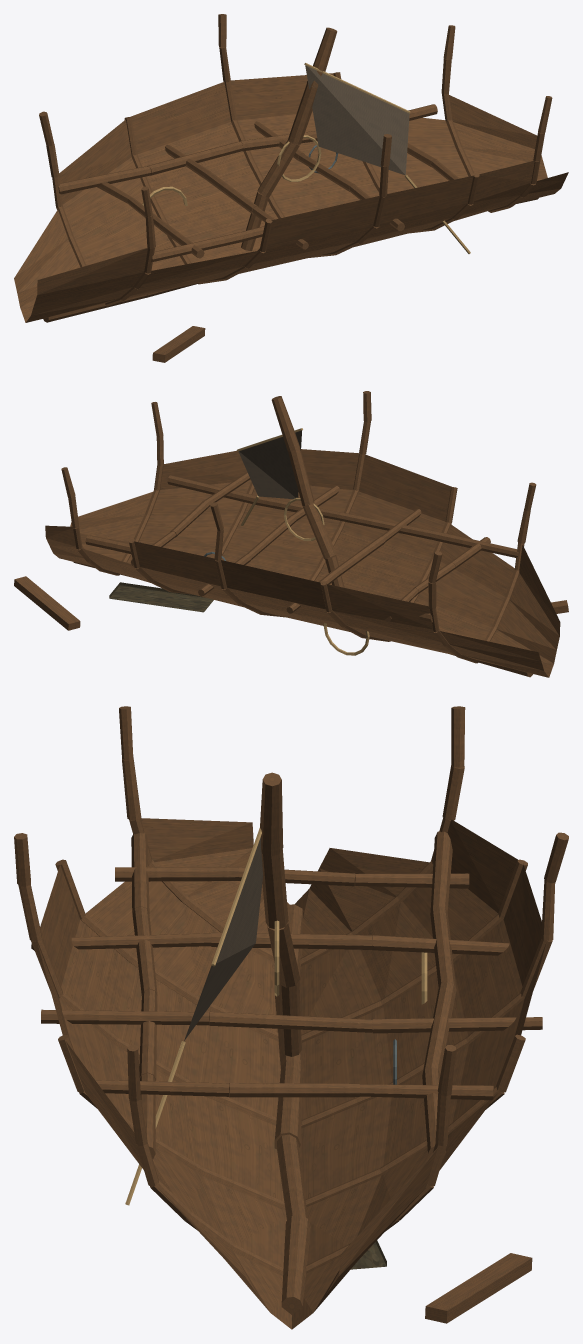
File: en-001_shipwreck_hull_chunk__medium.obj
The picture shows the model from 3 angles, top to bottom: view 1: azimuth 30°, elevation 25°; view 2: azimuth 150°, elevation 25°; view 3: azimuth 270°, elevation 25°; orthographic projection. The views are drawn at different scales.
Parts seen in each view (by area): view 1: en-001_shipwreck_hull_chunk__medium; view 2: en-001_shipwreck_hull_chunk__medium; view 3: en-001_shipwreck_hull_chunk__medium.
Part boxes in pixels (x1=…): en-001_shipwreck_hull_chunk__medium: x1=14, y1=14, x2=568, y2=362; en-001_shipwreck_hull_chunk__medium: x1=14, y1=391, x2=568, y2=677; en-001_shipwreck_hull_chunk__medium: x1=14, y1=706, x2=568, y2=1329.
Bounding box in the file's own units: 3.35 × 1.41 × 1.85.
Materials: 5 (5 with a texture image).
